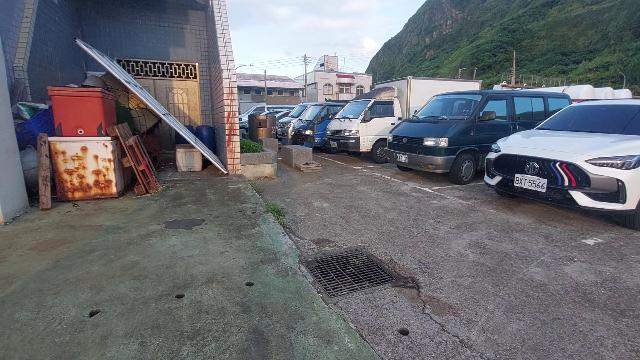pollute: (46, 69, 163, 202), (13, 101, 53, 149), (185, 126, 216, 154), (173, 143, 204, 171), (20, 147, 39, 185), (41, 133, 49, 209)
